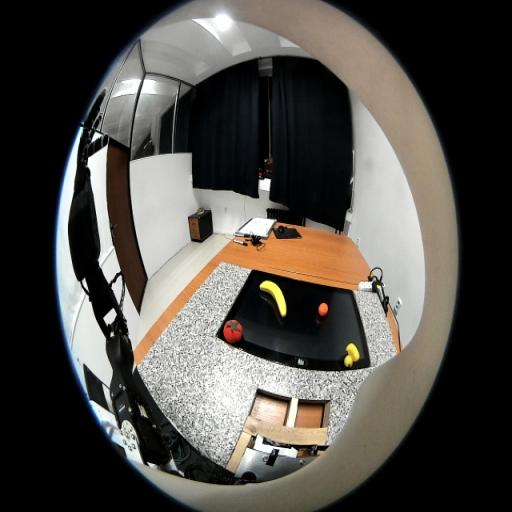Banana: (259, 280, 287, 317)
Duck: (344, 343, 360, 368)
LeftHand: (77, 129, 91, 166)
Orange: (318, 303, 328, 316)
Tomato: (223, 320, 243, 344)
